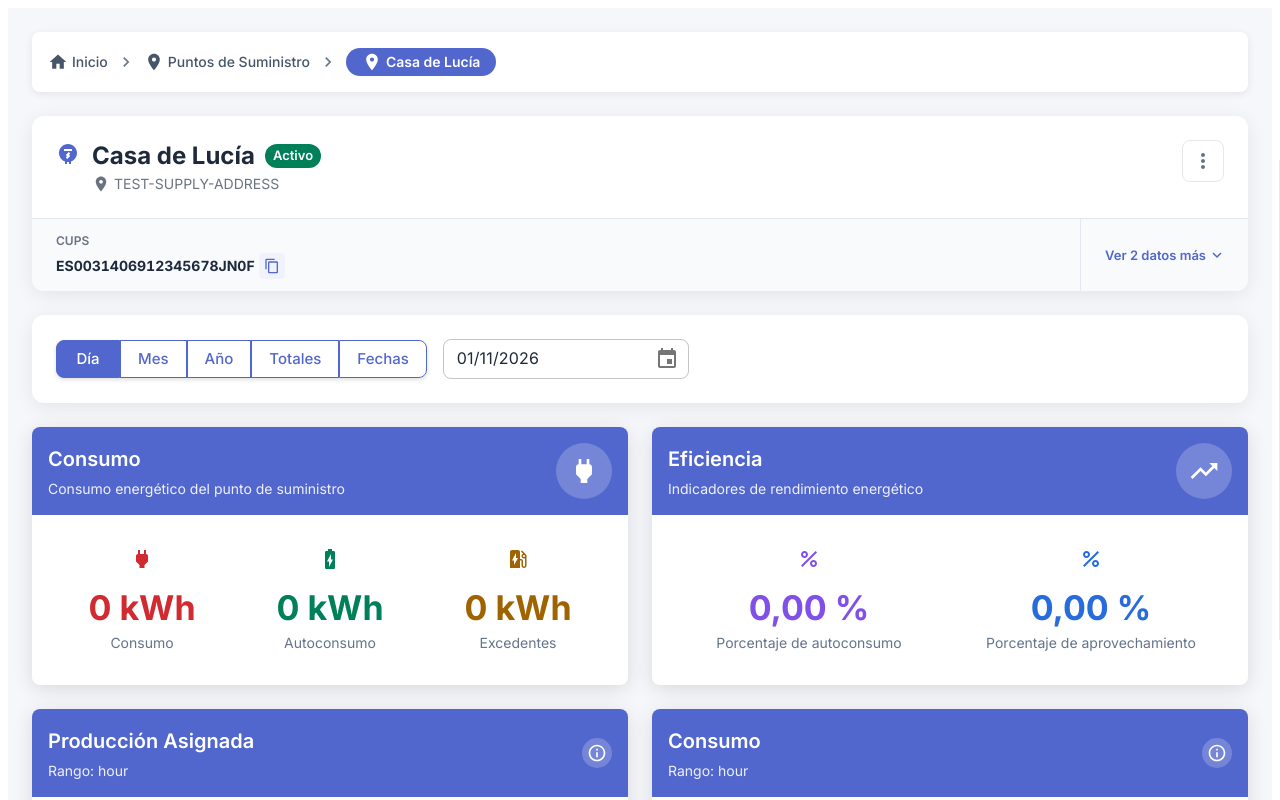
Test: deleting a supply from its detail page › UI-SUP-004 stays on the page when the deletion is refused, and says why
Step 1. Click the button named "Más opciones del punto de suministro" → (1203, 161), box [1182,140,1224,182]
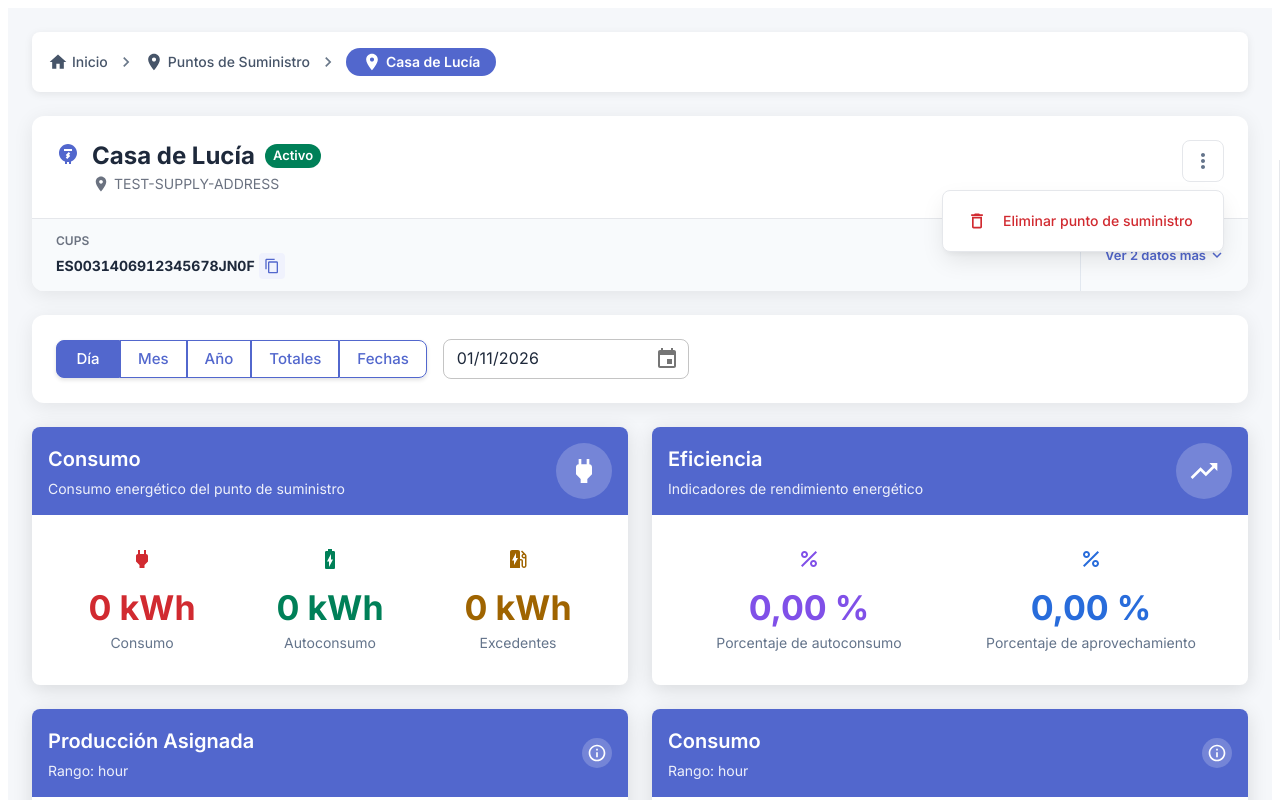
Step 2. Click the menu item "Eliminar punto de suministro" → (1080, 221), box [967,211,1193,231]
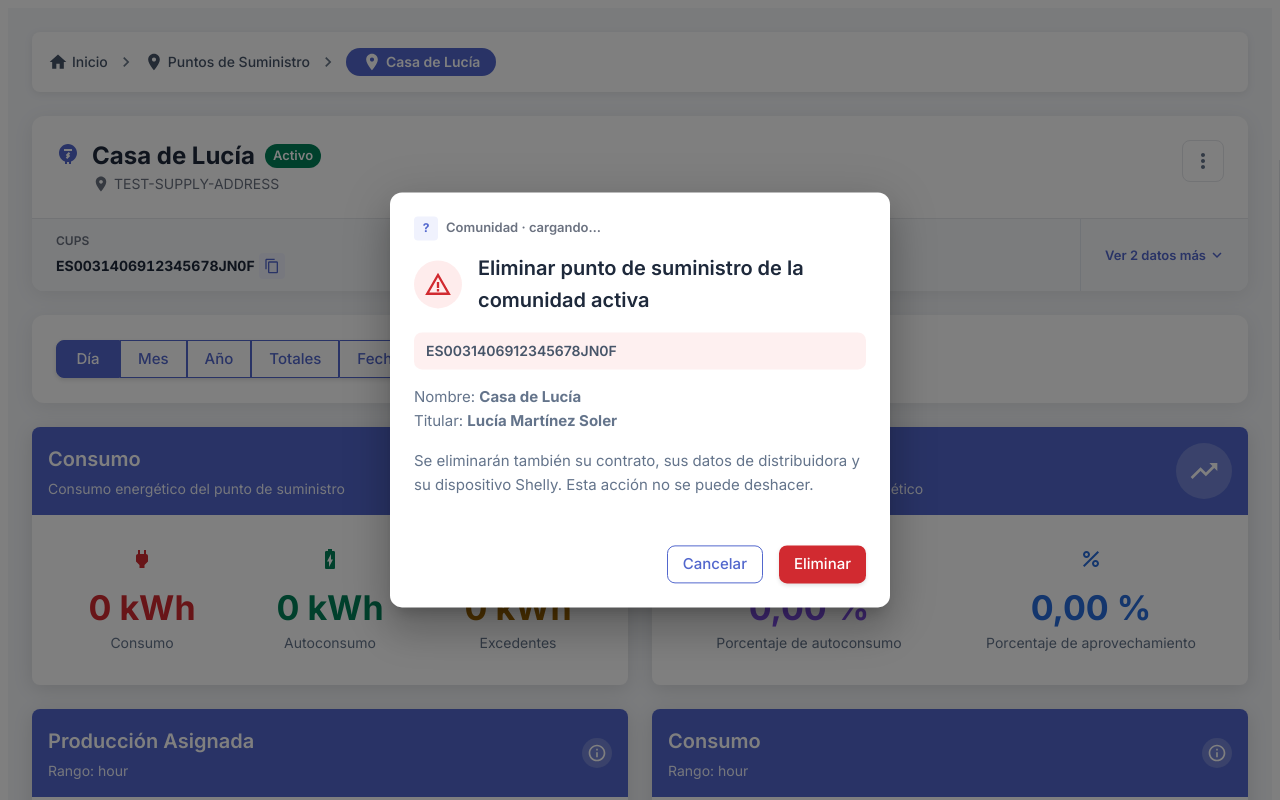
Expected: the heading "Eliminar punto de suministro de la comunidad activa" is shown, [478,256,804,312]
Step 3. Click the button "Eliminar" → (822, 565), box [779,545,866,584]
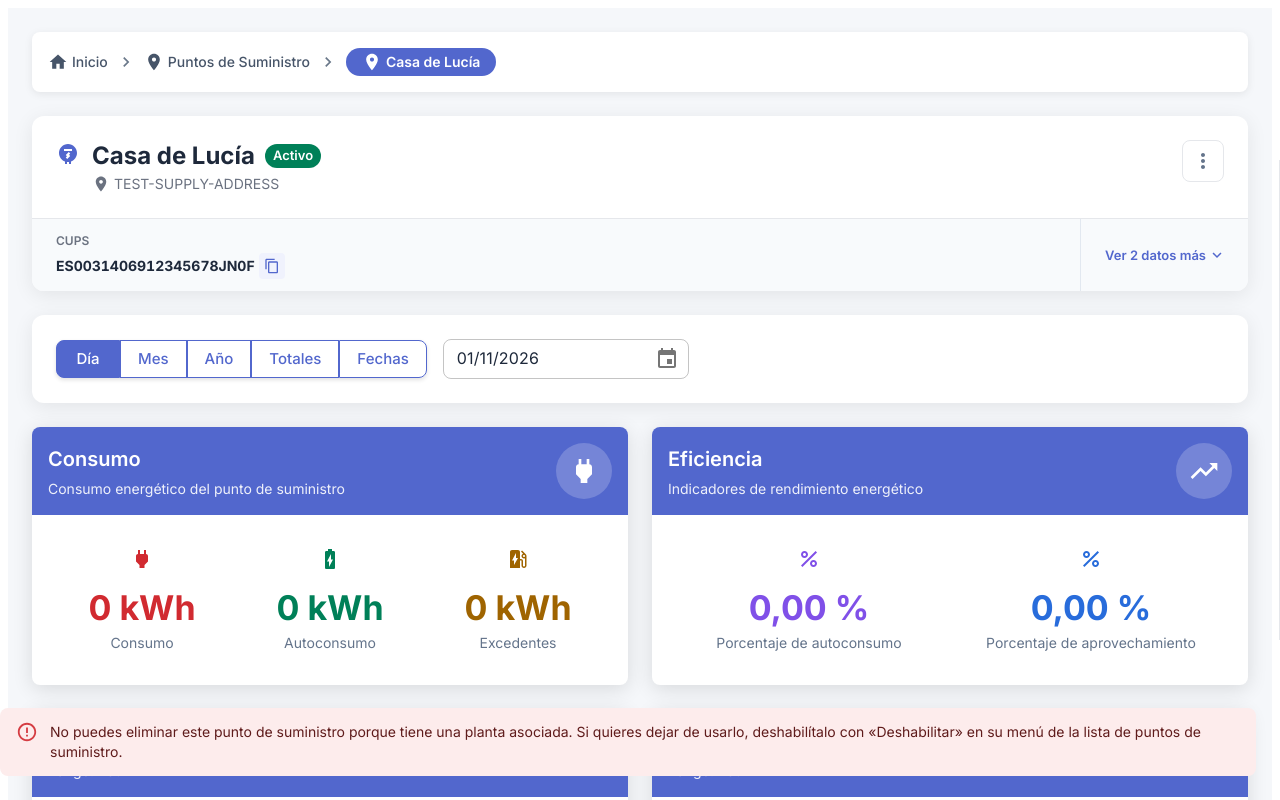
Expected: the heading "Casa de Lucía" is shown, [92,140,255,172]
Expected: the text "tiene una planta asociada" is shown, [50,723,1201,760]
